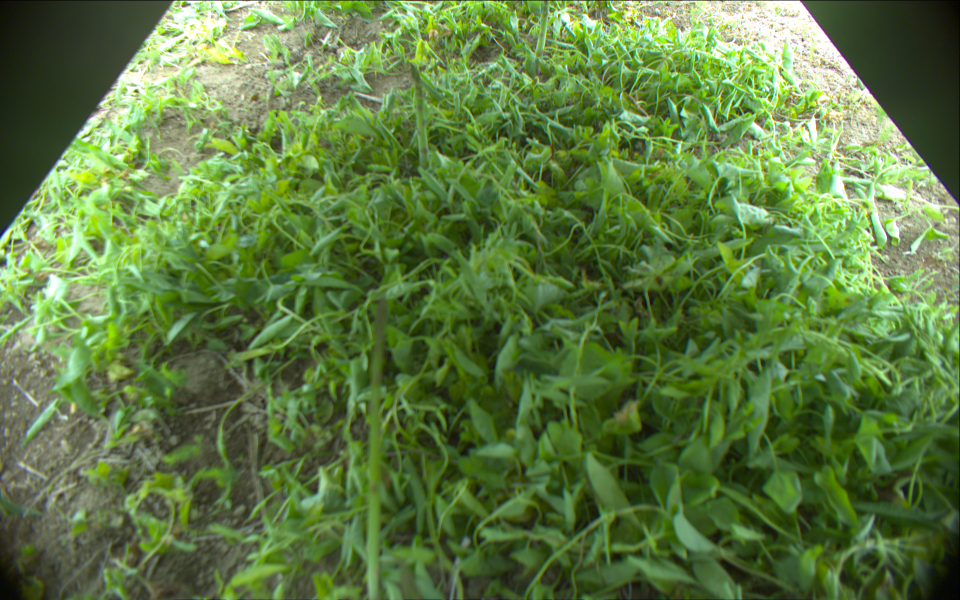aspa: (366, 293, 390, 600), (409, 66, 431, 171), (534, 1, 549, 64)
